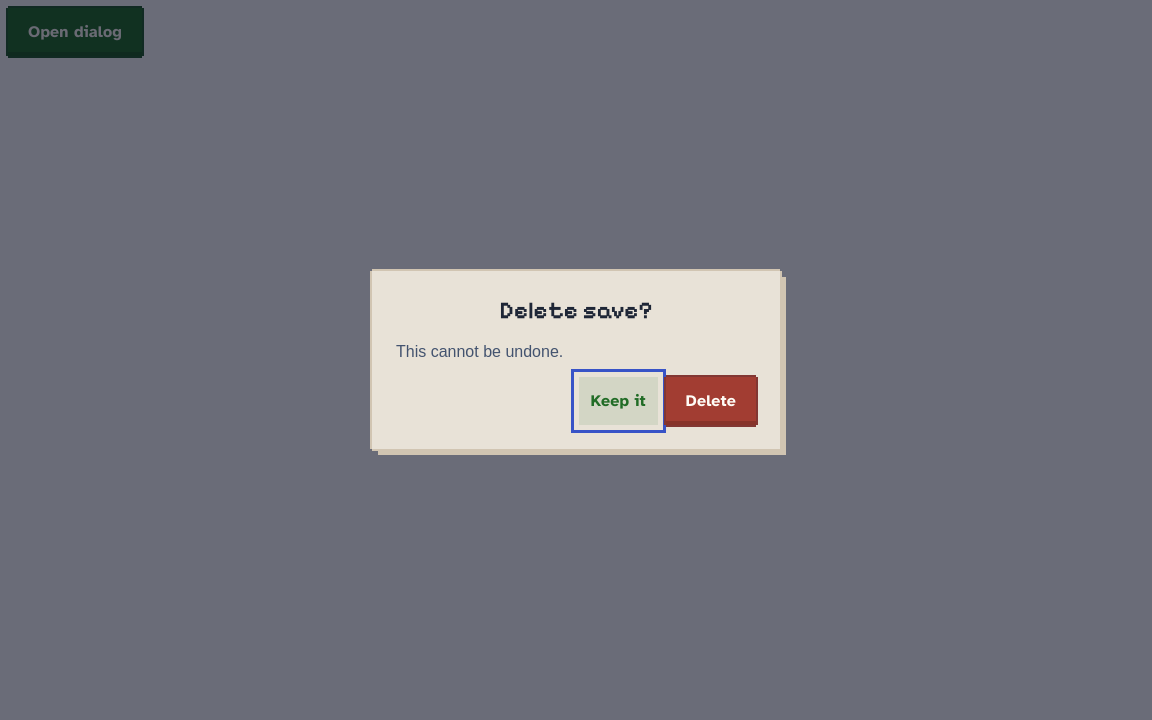
Scenario: Keyboard and ARIA checks › Dialog: moves focus in, traps Tab, closes on Esc and scrim, and restores focus
Earlier steps of the test are not shown.
Press Tab
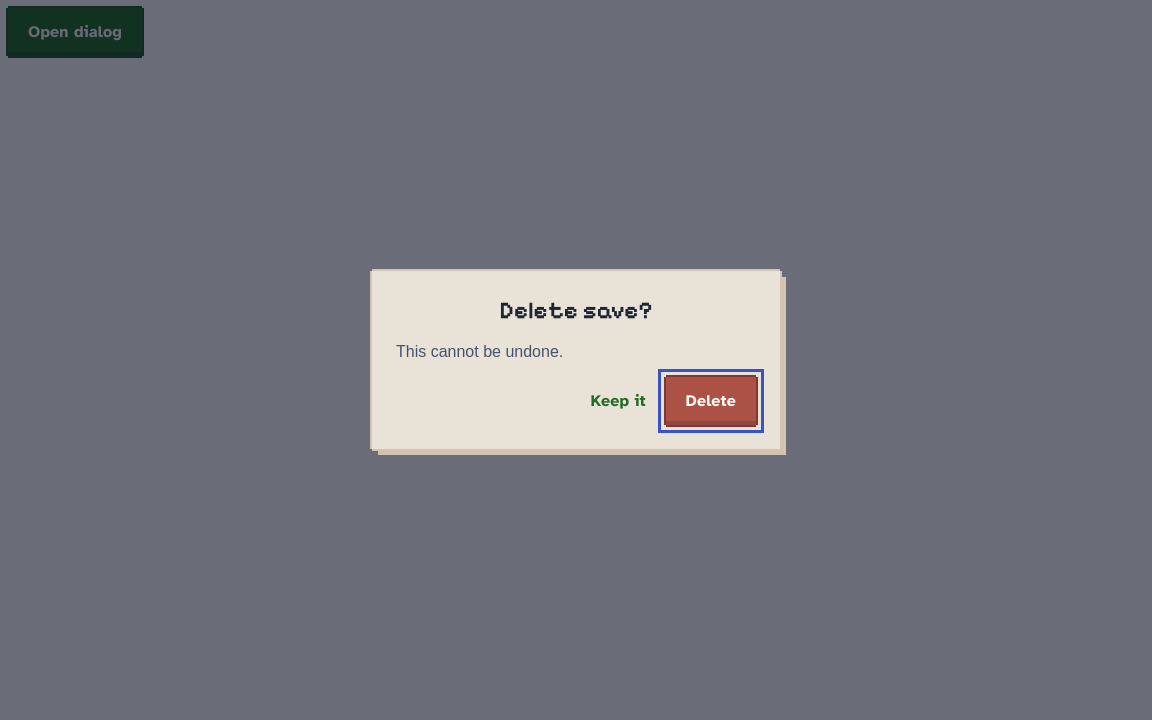
Press Tab
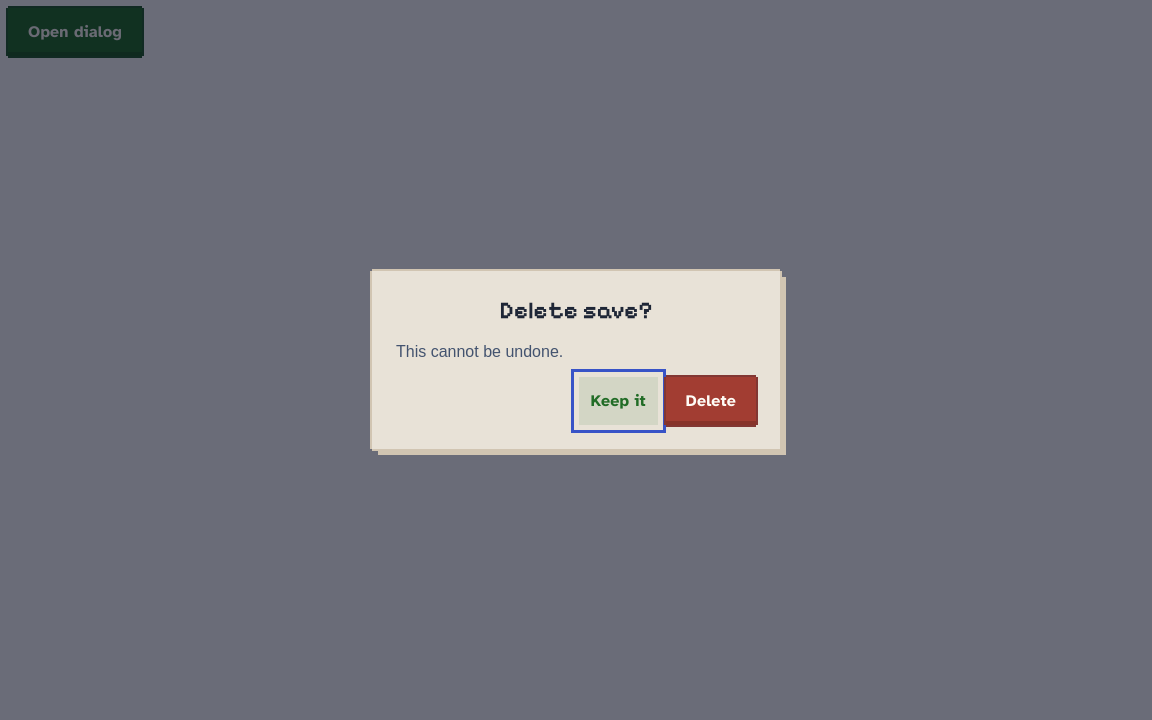
Press Shift+Tab
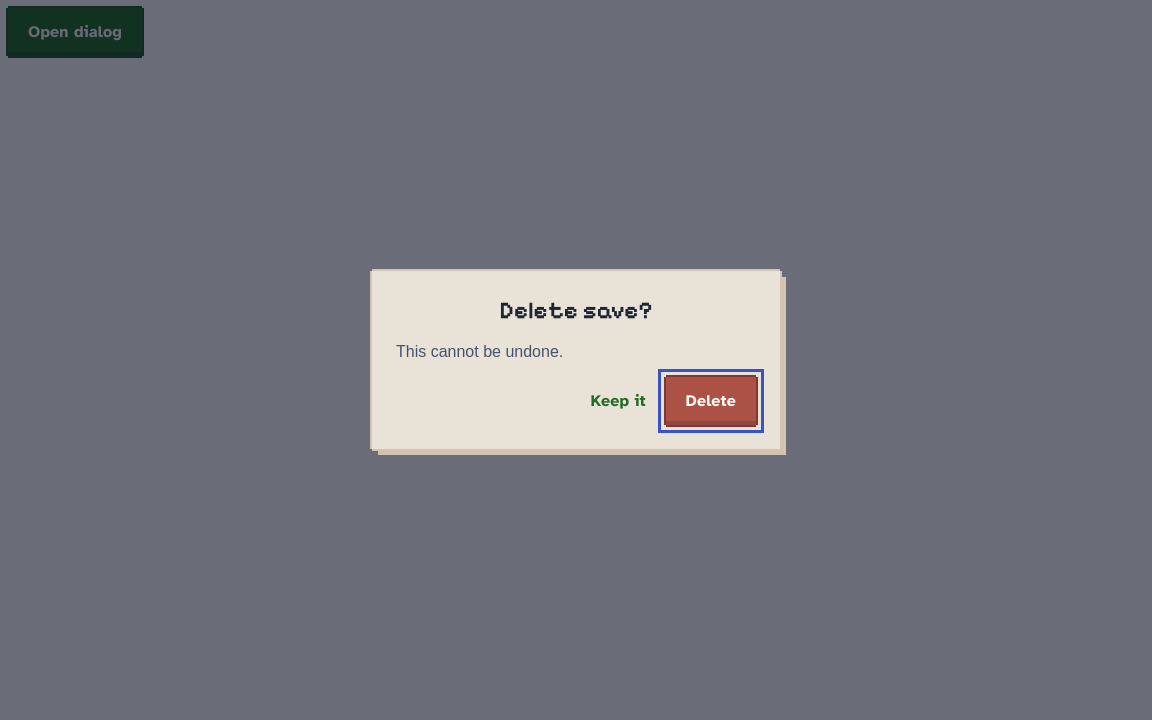
Press Escape
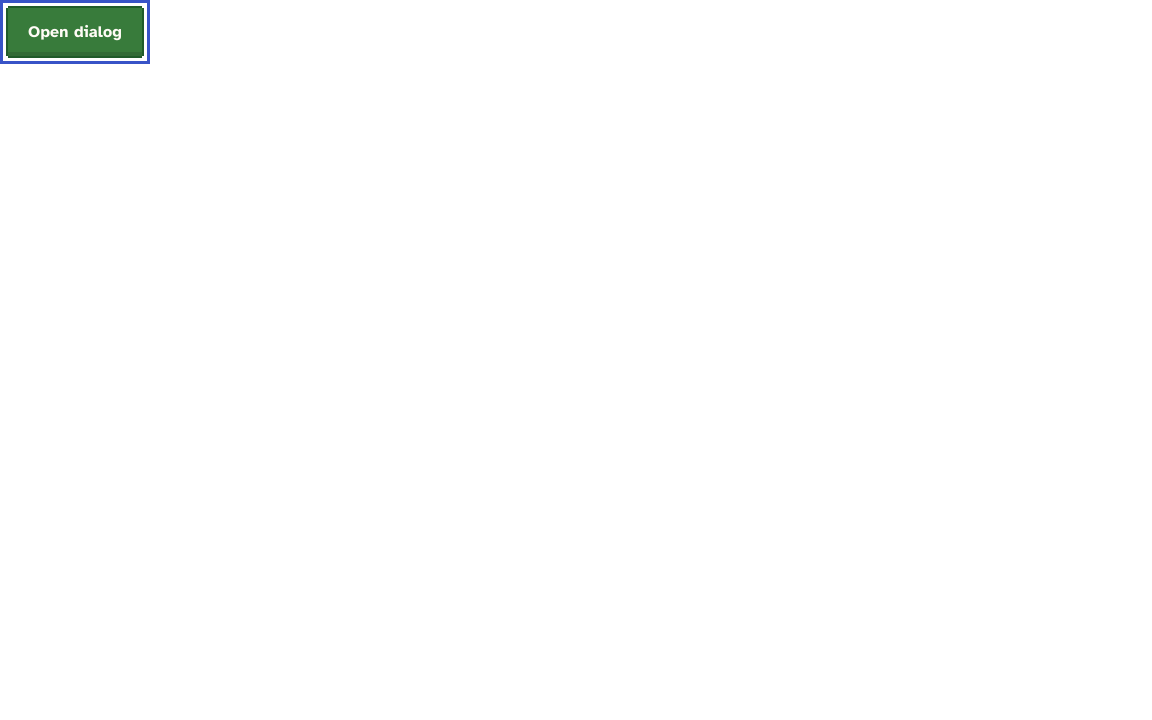
Expected: the dialog is gone
Click the button "Open dialog" at (75,32), box [8,8,142,56]
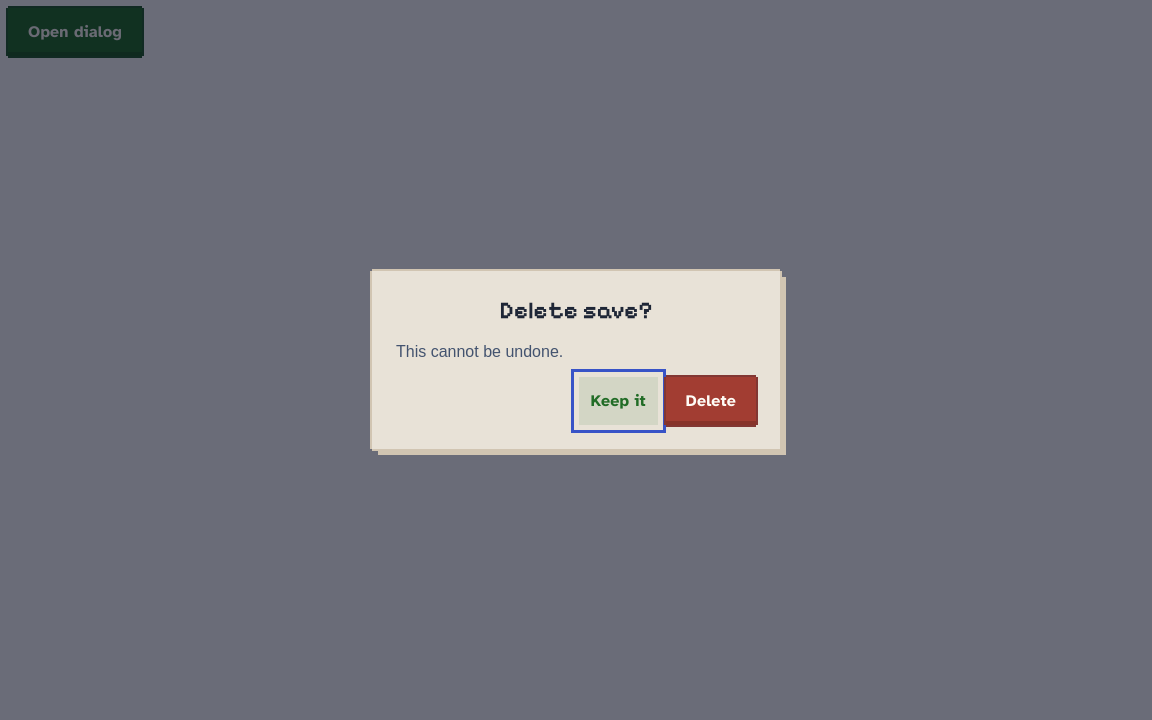
Click the element showing "Delete save? This cannot be undone. Keep it Delete" at (69,360), box [0,0,1151,719]
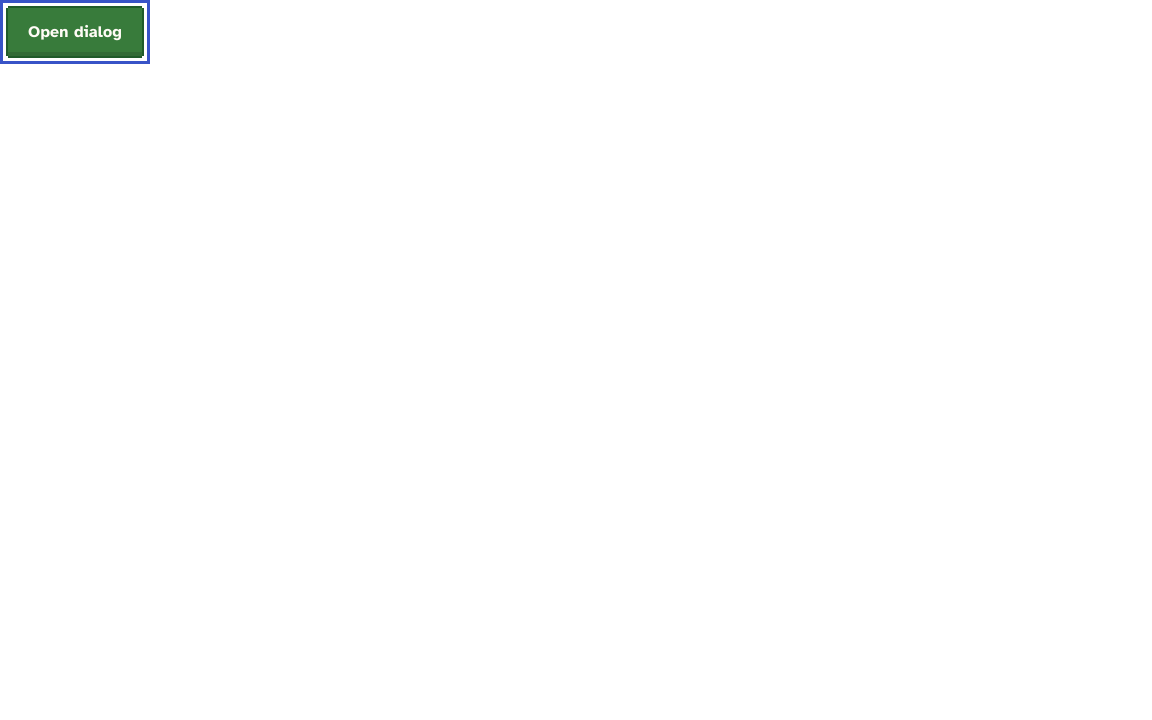
Expected: the dialog is gone
